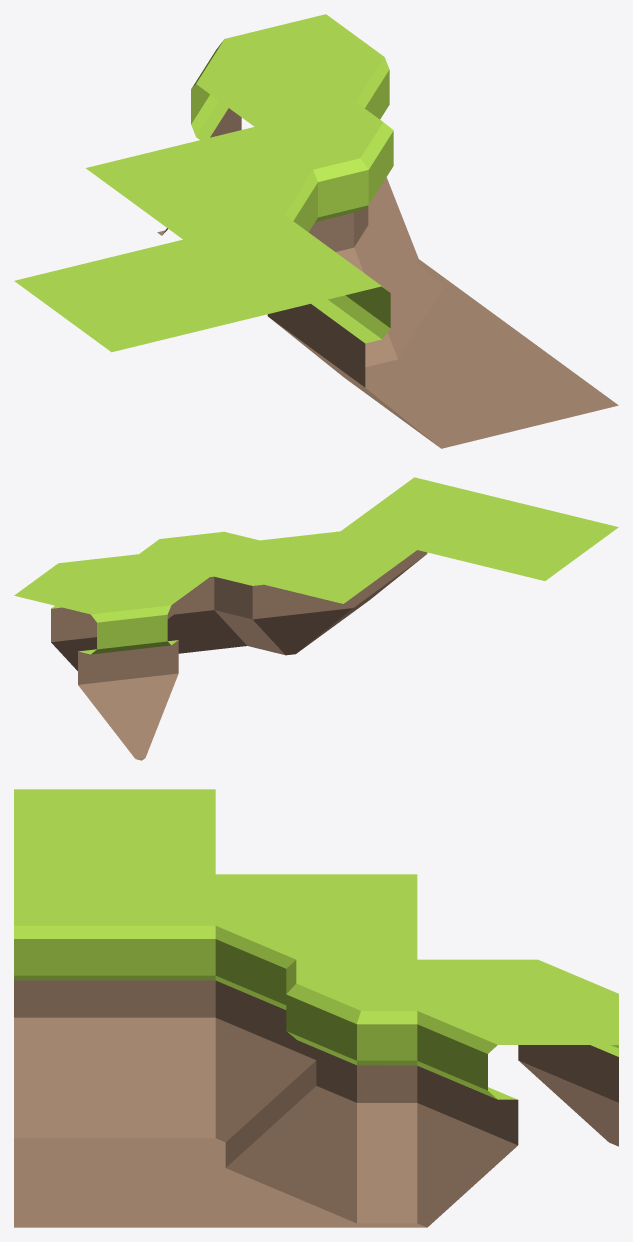
File: Tilemap.glb
The picture shows the model from 3 angles, top to bottom: view 1: azimuth 30°, elevation 25°; view 2: azimuth 150°, elevation 25°; view 3: azimuth 270°, elevation 25°; orthographic projection. The views are drawn at different scales.
Parts seen in each view (by area): view 1: CoastCornerOut, CoastDiagonal, CoastSide, GrassTile, WaterbedTile, CoastCornerIn; view 2: CoastDiagonal, CoastCornerIn, GrassTile, CoastCornerOut, CoastSide; view 3: CoastSide, CoastCornerOut, CoastDiagonal, CoastCornerIn, WaterbedTile, GrassTile.
Part boxes in pixels (bbox=[...]): CoastCornerOut: bbox=[255, 102, 520, 371]; CoastDiagonal: bbox=[157, 14, 423, 263]; CoastSide: bbox=[183, 215, 449, 448]; GrassTile: bbox=[14, 239, 279, 352]; WaterbedTile: bbox=[365, 334, 618, 446]; CoastCornerIn: bbox=[86, 127, 317, 239]; CoastDiagonal: bbox=[14, 554, 214, 760]; CoastCornerIn: bbox=[216, 531, 416, 655]; GrassTile: bbox=[418, 496, 618, 580]; CoastCornerOut: bbox=[139, 531, 285, 655]; CoastSide: bbox=[298, 477, 490, 652]; CoastSide: bbox=[14, 874, 215, 1142]; CoastCornerOut: bbox=[215, 959, 417, 1227]; CoastDiagonal: bbox=[417, 959, 618, 1227]; CoastCornerIn: bbox=[215, 874, 417, 1142]; WaterbedTile: bbox=[14, 1142, 215, 1227]; GrassTile: bbox=[14, 789, 215, 874].
Size of the model in its own units: 6 by 2 by 6.
